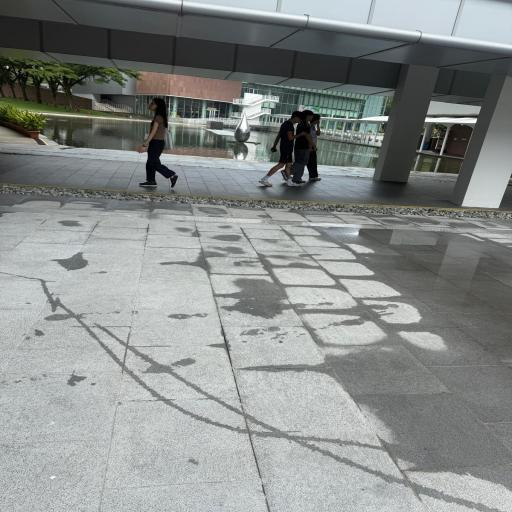person_left: (138, 98, 179, 188)
person_right: (258, 111, 308, 187), (280, 110, 318, 184), (306, 114, 322, 182)
